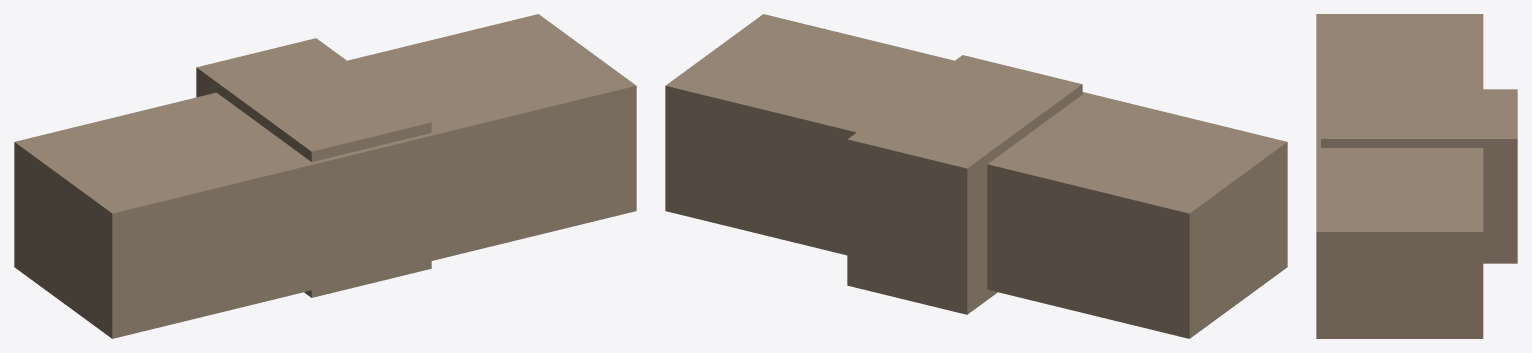
The model's file is belt.glb.
3 renders of one model, left to right at view 1: azimuth 30°, elevation 25°; view 2: azimuth 150°, elevation 25°; view 3: azimuth 270°, elevation 25°, orthographic. The views are drawn at different scales.
Visible parts, largest first — view 1: belt_band, belt_buckle; view 2: belt_band, belt_buckle; view 3: belt_band, belt_buckle.
Boxes of the visible parts, left/top/right/bottom form: belt_band: left=14, top=14, right=636, bottom=338; belt_buckle: left=196, top=38, right=431, bottom=297; belt_band: left=665, top=14, right=1287, bottom=338; belt_buckle: left=847, top=55, right=1082, bottom=314; belt_band: left=1316, top=14, right=1483, bottom=338; belt_buckle: left=1321, top=89, right=1517, bottom=263.
Size of the model in its own units: 1.05 by 0.28 by 0.41.
